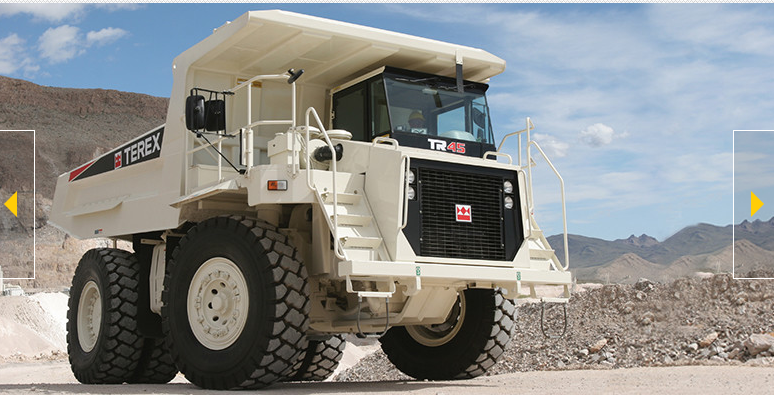truck: (47, 1, 551, 386)
